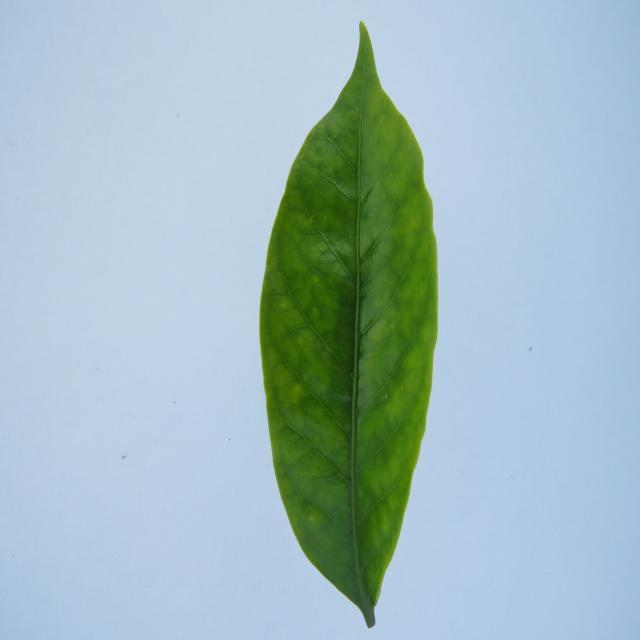DeficienciaNutricional-Hierro: (260, 23, 438, 627)
